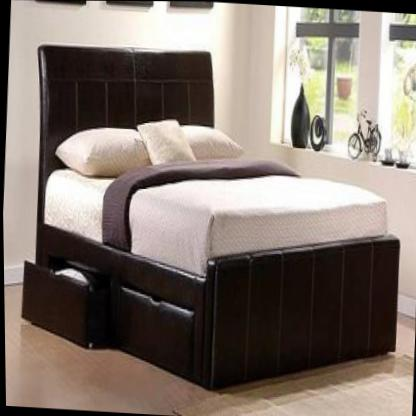Bed: (20, 39, 410, 395)
